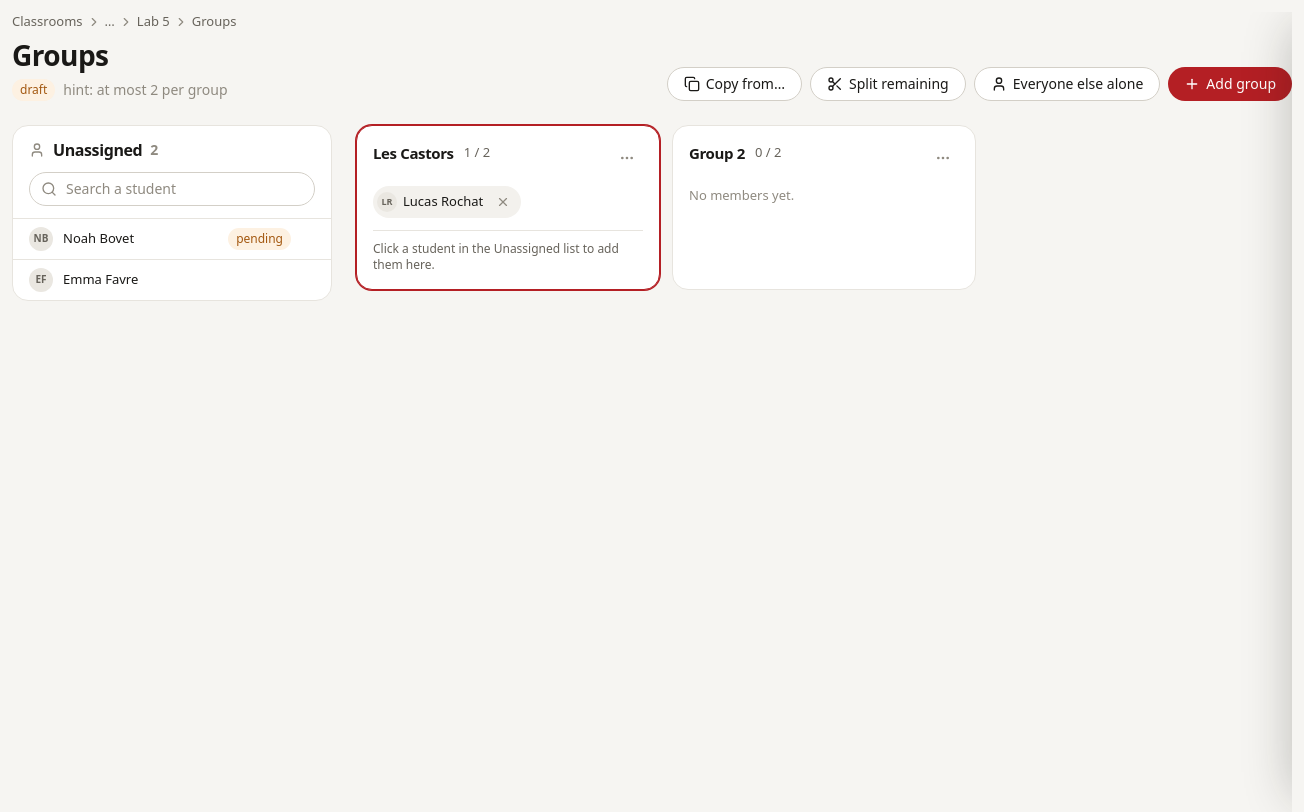
it: GroupsPage membership › says why a removal was refused, on the group it was refused for
Check: the button with aria-label "Group Les Castors" is shown, box x1=356 y1=124 x2=660 y2=290
Click the button named "Remove Lucas Rochat from the group".
click(503, 202)  # box x1=489 y1=188 x2=517 y2=216
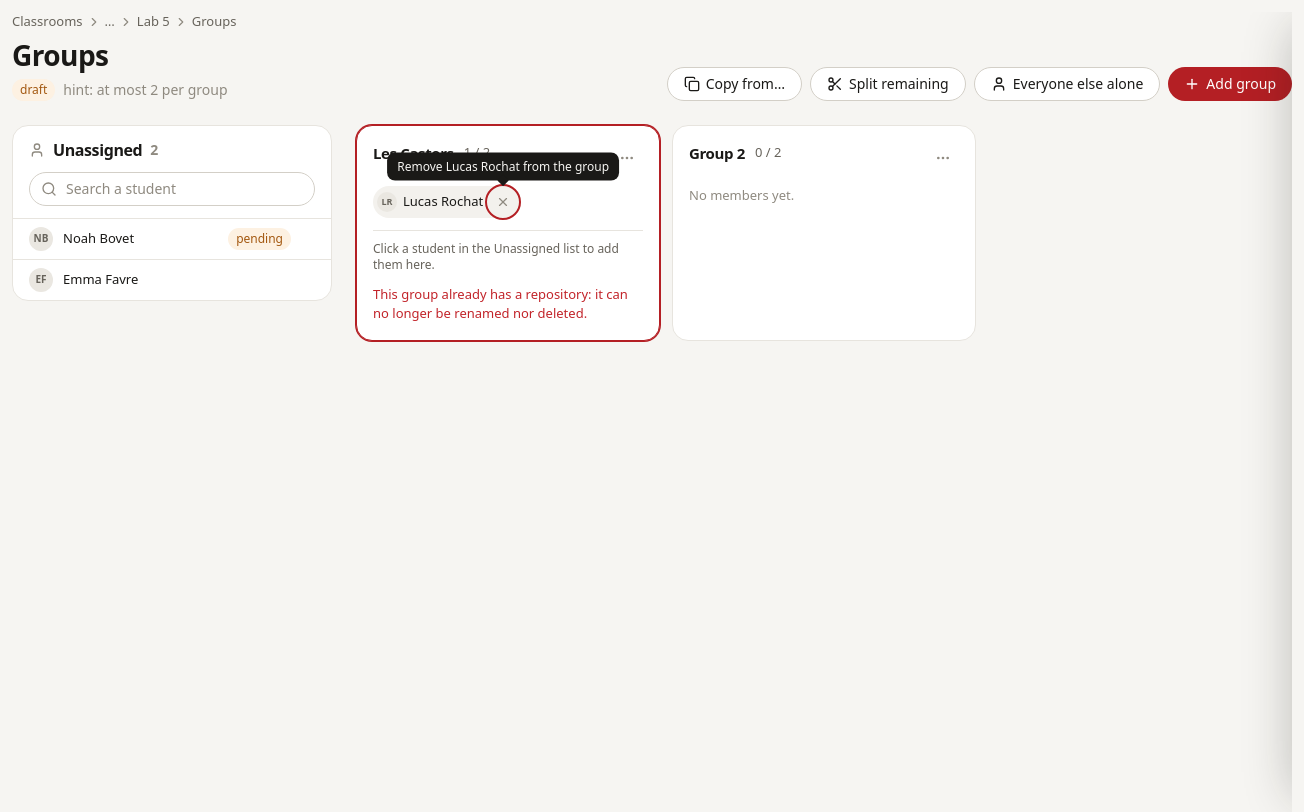
Check: the text "already has a repository" is shown, box x1=373 y1=284 x2=628 y2=322
